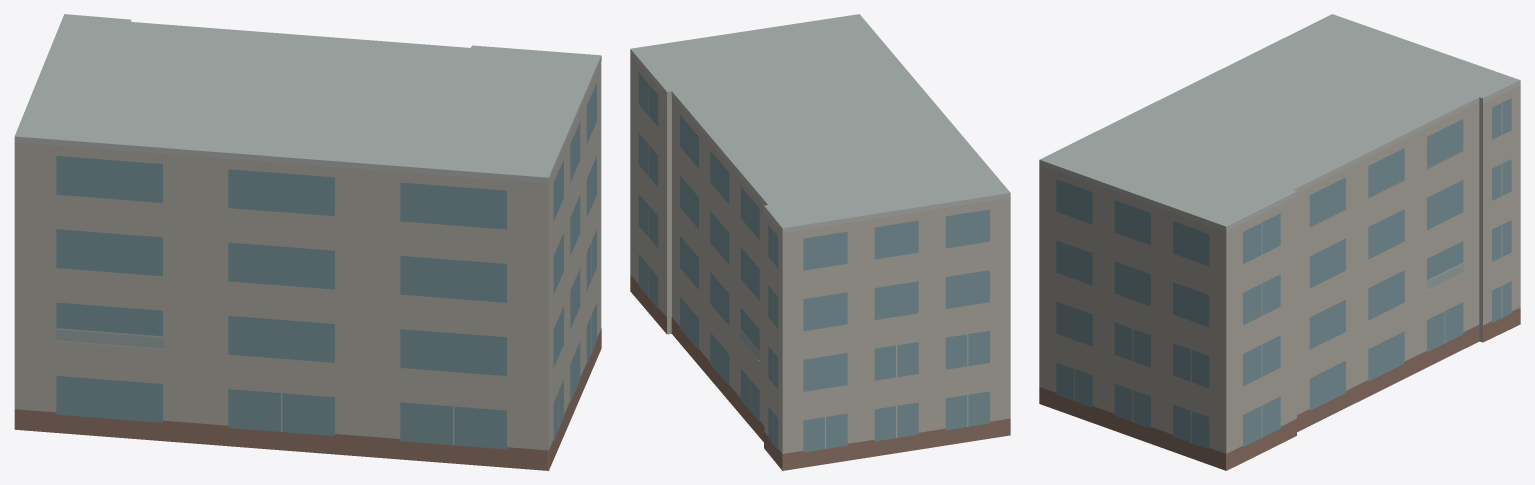
Rendered from survey-upis-32798585.glb.
The picture shows the model from 3 angles, left to right: view 1: azimuth 30°, elevation 25°; view 2: azimuth 150°, elevation 25°; view 3: azimuth 270°, elevation 25°; orthographic projection. The views are drawn at different scales.
Visible parts, largest first — view 1: survey-upis-32798585.tmp; view 2: survey-upis-32798585.tmp; view 3: survey-upis-32798585.tmp.
Boxes of the visible parts, <box> form: survey-upis-32798585.tmp: <box>14,14,601,470</box>; survey-upis-32798585.tmp: <box>630,14,1010,470</box>; survey-upis-32798585.tmp: <box>1039,14,1520,470</box>.
Size of the model in its own units: 22.8 by 12.2 by 21.79.
